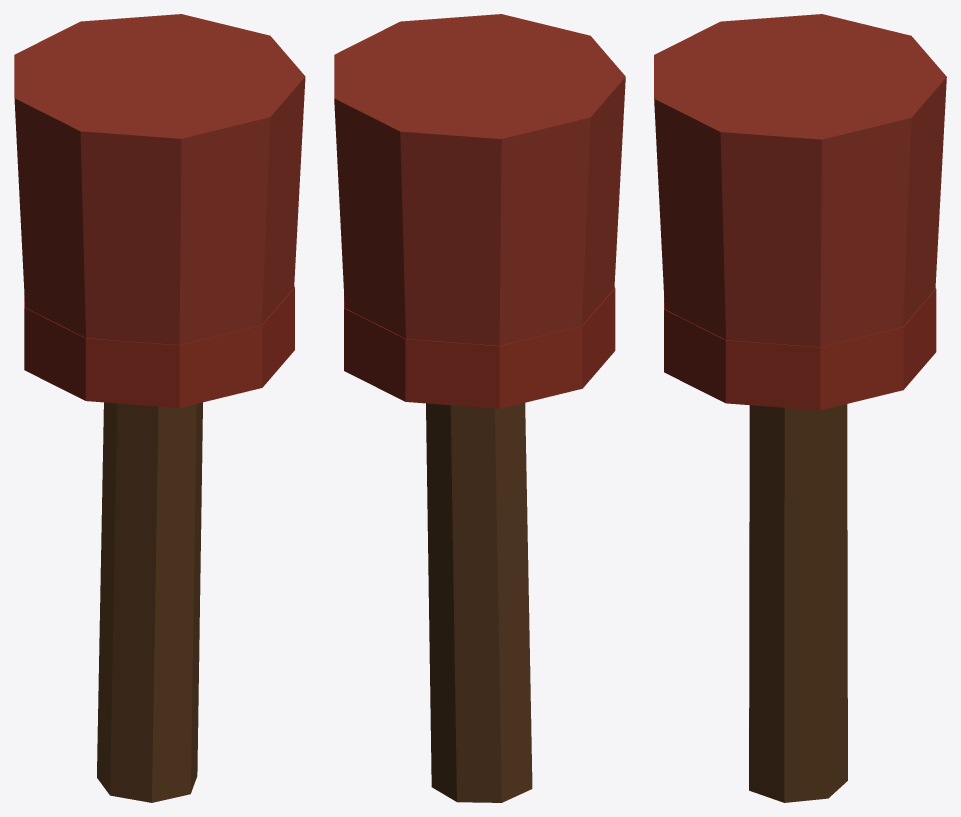
File: leg_l.obj
The picture shows the model from 3 angles, left to right: view 1: azimuth 30°, elevation 25°; view 2: azimuth 150°, elevation 25°; view 3: azimuth 270°, elevation 25°; orthographic projection.
Parts seen in each view (by area): view 1: Shorts_L, Upper_wooden_shin_L, Rolled_shorts_hem_L; view 2: Shorts_L, Upper_wooden_shin_L, Rolled_shorts_hem_L; view 3: Shorts_L, Upper_wooden_shin_L, Rolled_shorts_hem_L.
Part boxes in pixels (bbox=[...]): Shorts_L: bbox=[14, 14, 305, 344]; Upper_wooden_shin_L: bbox=[97, 402, 202, 802]; Rolled_shorts_hem_L: bbox=[24, 287, 294, 407]; Shorts_L: bbox=[334, 14, 625, 345]; Upper_wooden_shin_L: bbox=[426, 403, 532, 802]; Rolled_shorts_hem_L: bbox=[344, 287, 615, 408]; Shorts_L: bbox=[654, 14, 946, 346]; Upper_wooden_shin_L: bbox=[749, 404, 847, 802]; Rolled_shorts_hem_L: bbox=[664, 288, 936, 410].
Bounding box in the file's own units: 0.3427 × 0.901 × 0.3375.
